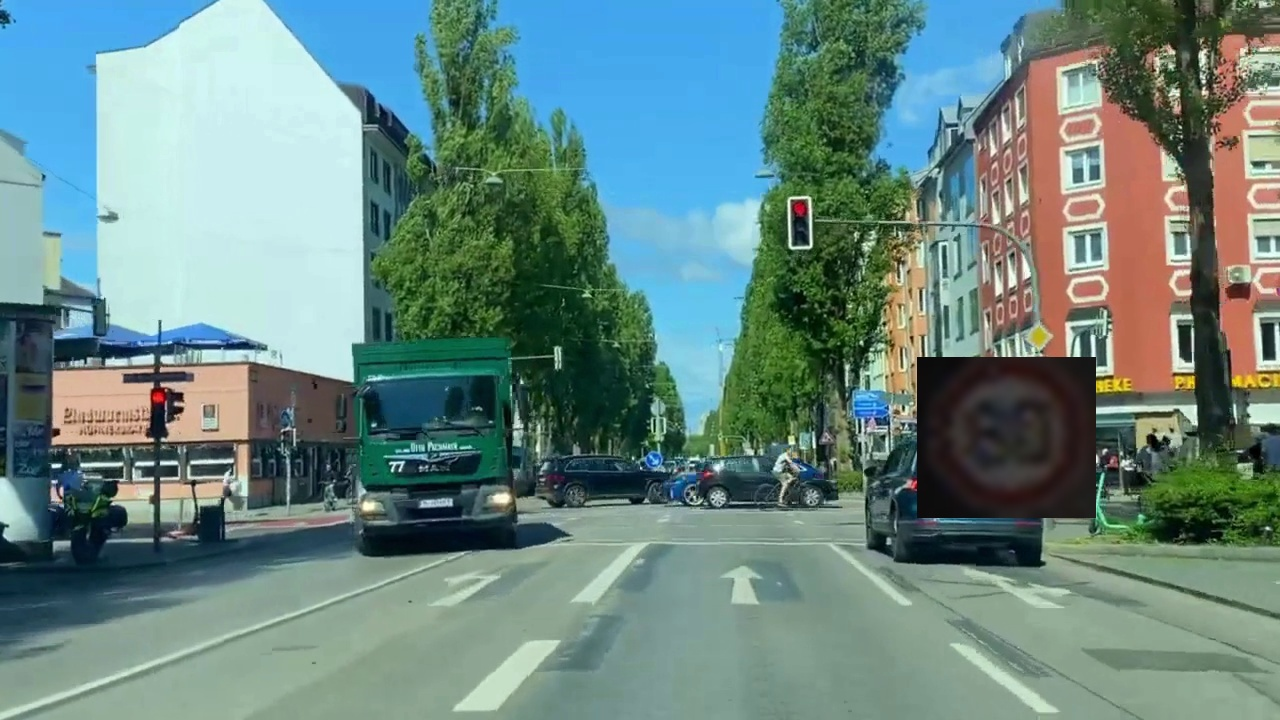Speed 80: (917, 357, 1096, 518)
